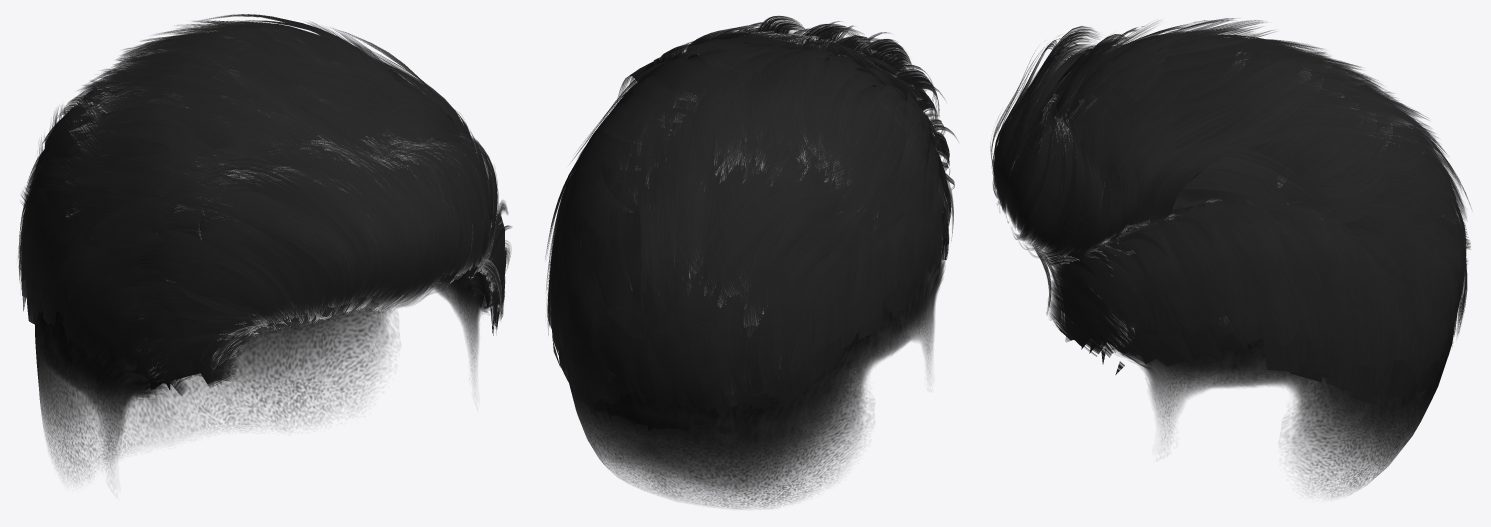
File: oval_straight_03 TexturedQuiff.glb
3 renders of one model, left to right at view 1: azimuth 30°, elevation 25°; view 2: azimuth 150°, elevation 25°; view 3: azimuth 270°, elevation 25°, orthographic. The views are drawn at different scales.
Parts seen in each view (by area): view 1: Quiff.002, Scalp.001; view 2: Quiff.002, Scalp.001; view 3: Quiff.002, Scalp.001.
Boxes of the visible parts, x1,y1,x2,y2 form: Quiff.002: (18,14,511,395); Scalp.001: (35,261,490,482); Quiff.002: (545,15,958,420); Scalp.001: (569,257,945,508); Quiff.002: (990,18,1471,405); Scalp.001: (1051,200,1454,497).
Bounding box in the file's own units: 0.1929 × 0.2212 × 0.2326.
2 materials, 2 textured.
